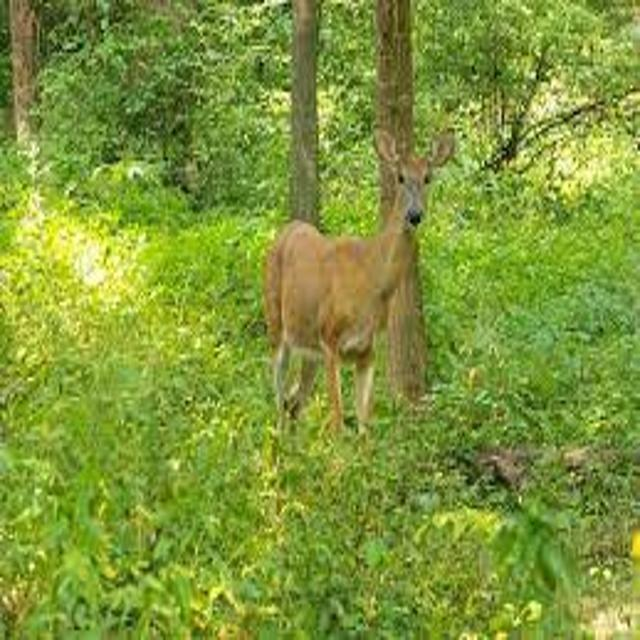Deer: (228, 136, 462, 441)
